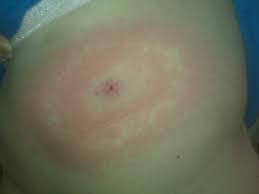Tick: (76, 53, 156, 128)
